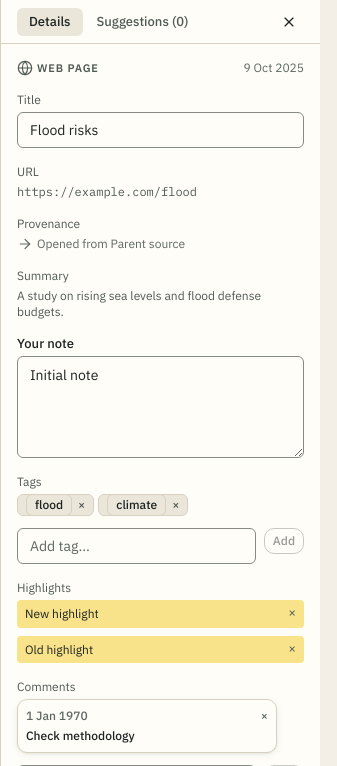
Test: Inspector › adds and removes a tag
Remove existing tag 'climate'
Click the button named "Remove tag climate" at (176, 505), box [172,499,179,511]
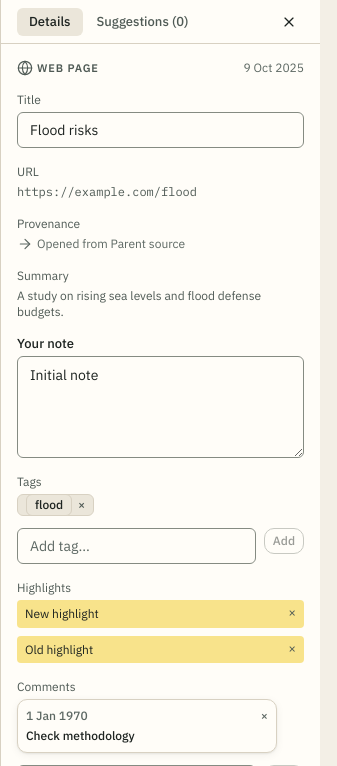
Add new tag 'resilience'
Type "resilience" into the field with placeholder "Add tag..." at (136, 546), box [17,528,256,564]
Then press Enter
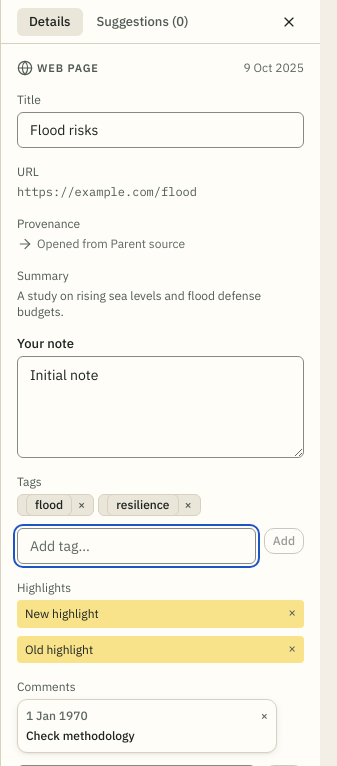
Now the text "resilience" is shown, box [107,494,178,516]
